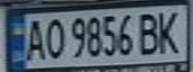5: (100, 11, 121, 57)
6: (115, 11, 139, 57)
8: (84, 12, 103, 59)
9: (66, 13, 87, 60)
A: (21, 16, 48, 62)
B: (136, 9, 163, 56)
K: (154, 7, 187, 55)
O: (42, 15, 66, 61)
